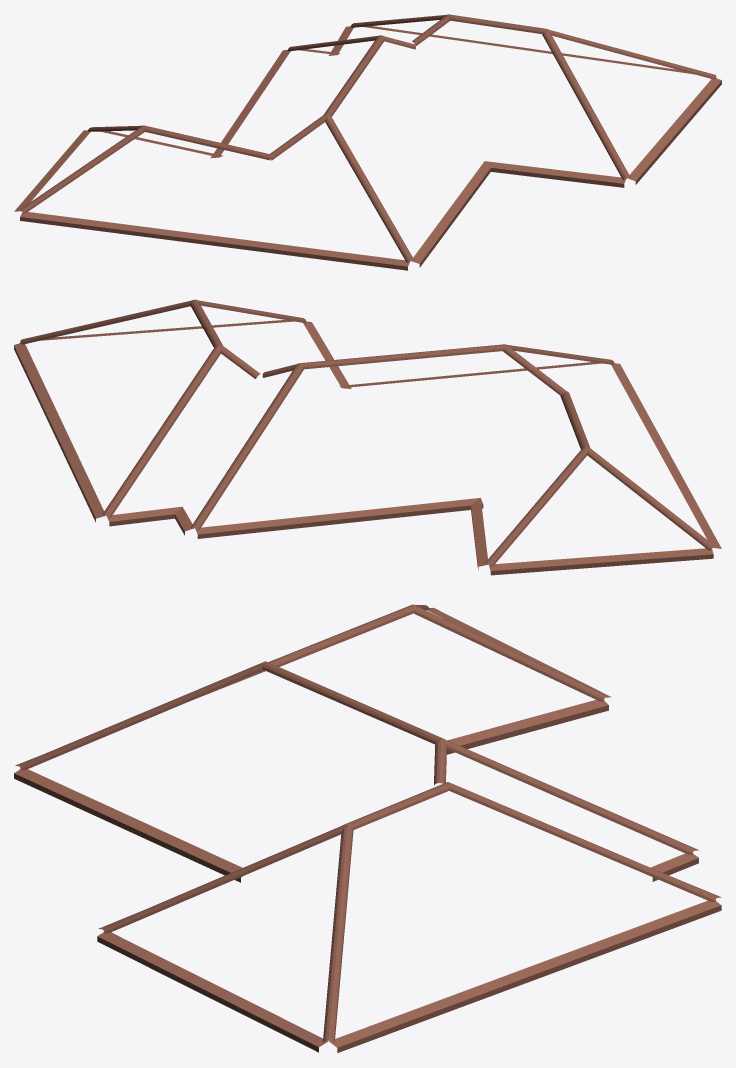
3 renders of one model, top to bottom at view 1: azimuth 30°, elevation 25°; view 2: azimuth 150°, elevation 25°; view 3: azimuth 270°, elevation 25°, orthographic. The views are drawn at different scales.
Parts seen in each view (by area): view 1: detail; view 2: detail; view 3: detail.
Part boxes in pixels (bbox=[...]): detail: bbox=[14, 14, 721, 270]; detail: bbox=[14, 299, 721, 575]; detail: bbox=[14, 604, 721, 1052].
Size of the model in its own units: 26.13 by 3.48 by 17.75.
